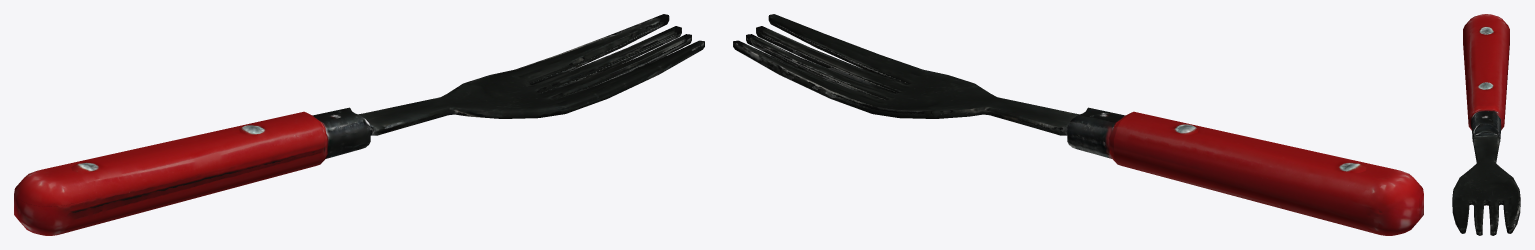
Rendered from 030_fork.dae.
3 views of the same model, side by side, from view 1: azimuth 30°, elevation 25°; view 2: azimuth 150°, elevation 25°; view 3: azimuth 270°, elevation 25° (orthographic). The views are drawn at different scales.
Parts seen in each view (by area): view 1: 030_fork; view 2: 030_fork; view 3: 030_fork.
Boxes of the visible parts, <box> form: 030_fork: <box>14,14,704,235</box>; 030_fork: <box>733,14,1423,235</box>; 030_fork: <box>1452,14,1520,235</box>.
Bounding box in the file's own units: 0.201 × 0.0269 × 0.0169.
Materials: 1 (1 with a texture image).
